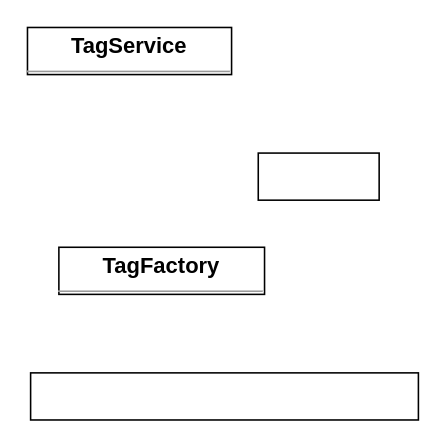
Image size: 446x447. Some labels were removed from this diagram. Each missing label, with the box of its shape:
FlyweightPatternController: (29, 371, 418, 420)
Tag: (257, 152, 379, 200)
